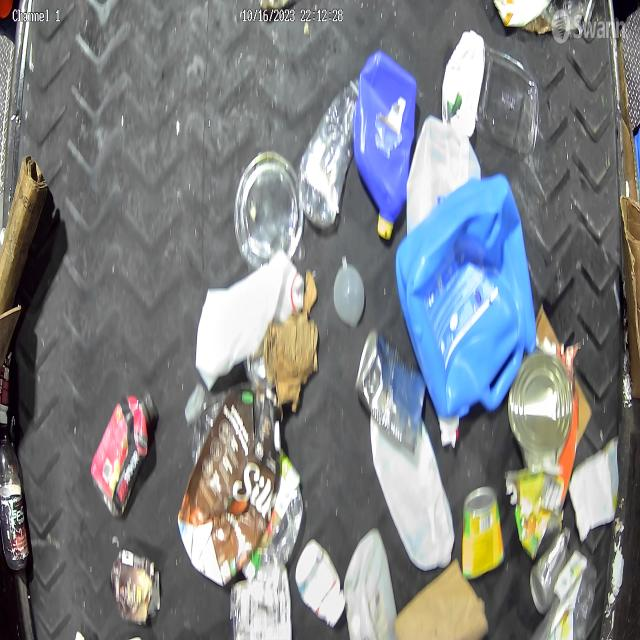can: (355, 328, 426, 452), (234, 151, 304, 267), (508, 350, 573, 455), (463, 486, 506, 580), (530, 531, 571, 615)
milk_jug: (195, 250, 304, 392), (370, 406, 456, 568), (343, 527, 398, 640)
non_white_jug: (398, 170, 532, 425), (178, 382, 283, 586), (354, 50, 417, 234)
plastic_bottle: (299, 77, 359, 229), (0, 432, 30, 570)
